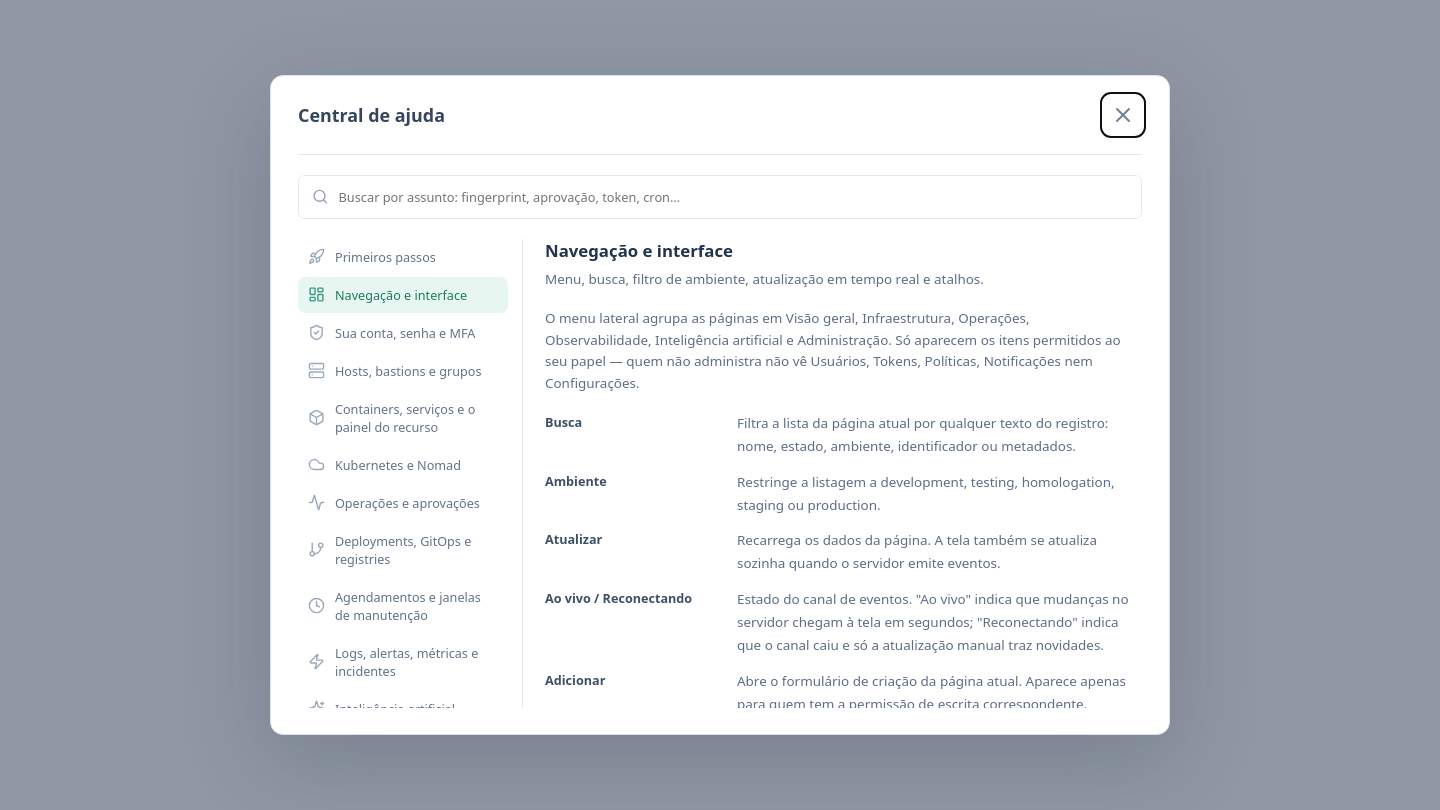
Test: central de ajuda › reports honestly when nothing matches
Type "zzzz" into the field named "Buscar na ajuda".
click(733, 197); type("zzzz")  # box [338,176,1128,218]
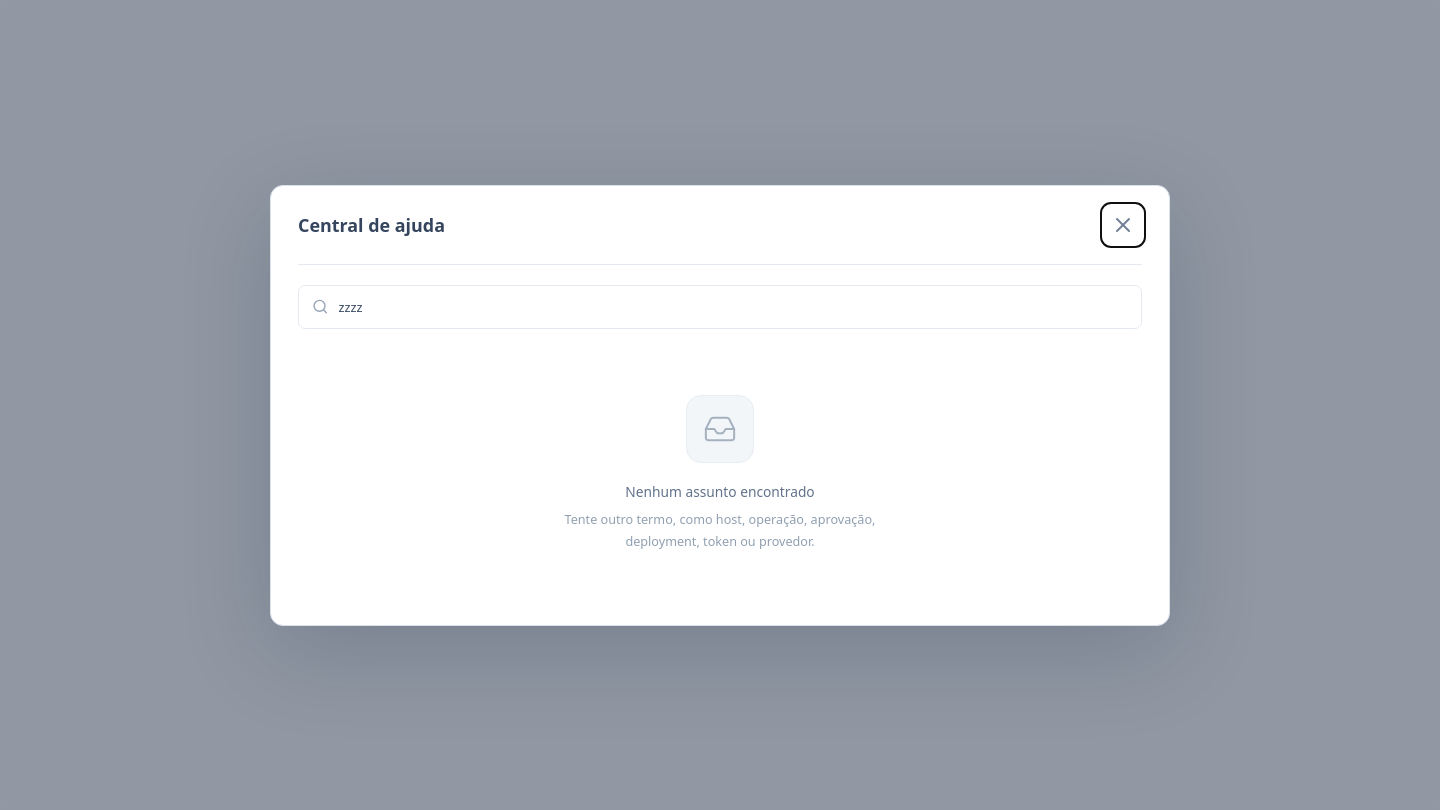
Now the heading "Nenhum assunto encontrado" is shown, box [625,482,815,501]
